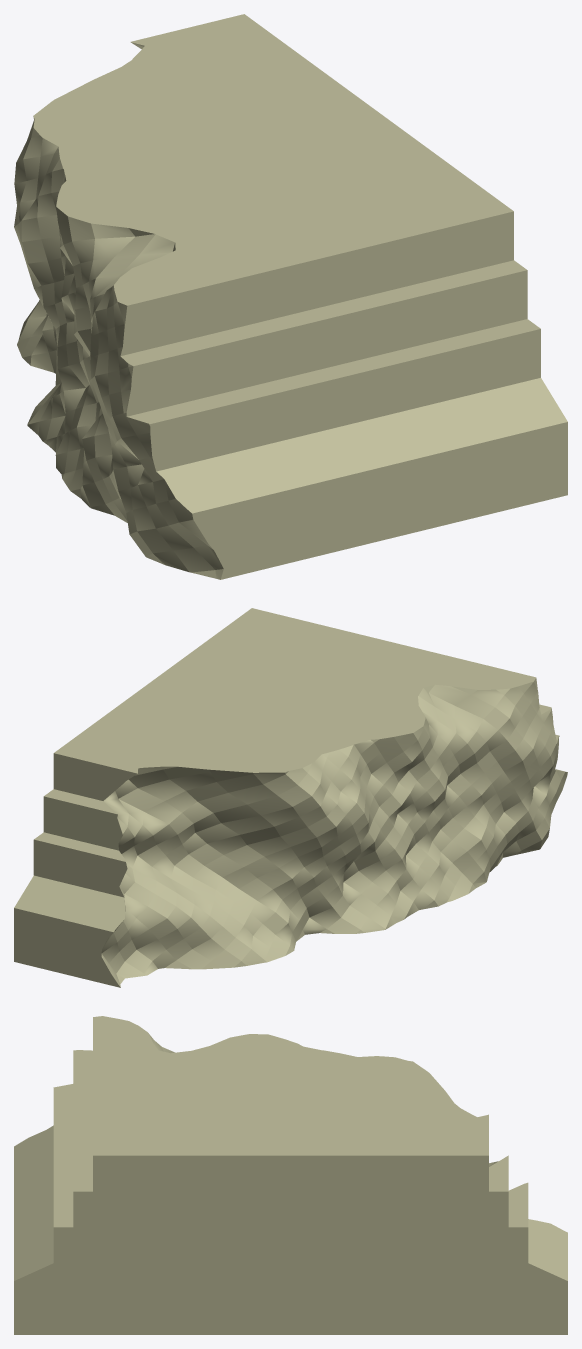
File: M_Architrave_Corner_D12_1.fbx
3 renders of one model, top to bottom at view 1: azimuth 30°, elevation 25°; view 2: azimuth 150°, elevation 25°; view 3: azimuth 270°, elevation 25°, orthographic. The views are drawn at different scales.
Visible parts, largest first — view 1: M_Architrave; view 2: M_Architrave; view 3: M_Architrave.
Part boxes in pixels (bbox=[...]): M_Architrave: bbox=[14, 14, 567, 579]; M_Architrave: bbox=[14, 608, 567, 987]; M_Architrave: bbox=[14, 1016, 567, 1334].
Size of the model in its own units: 2.16 by 1.25 by 3.5.
